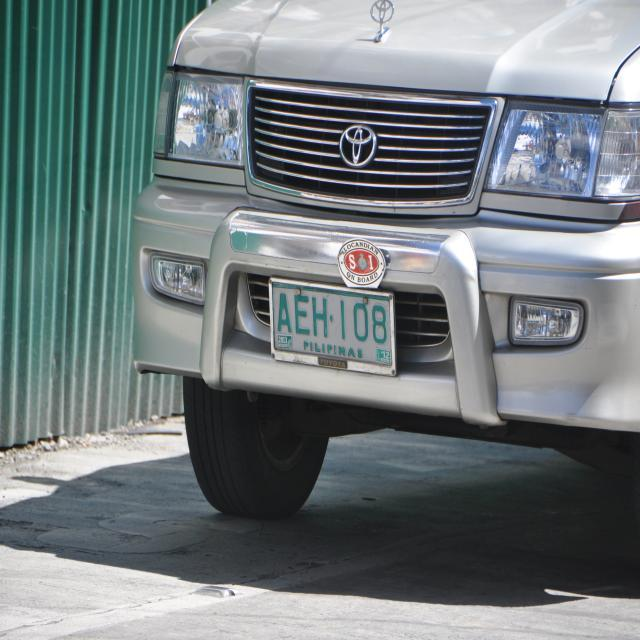LicensePlate: (261, 274, 404, 383)
